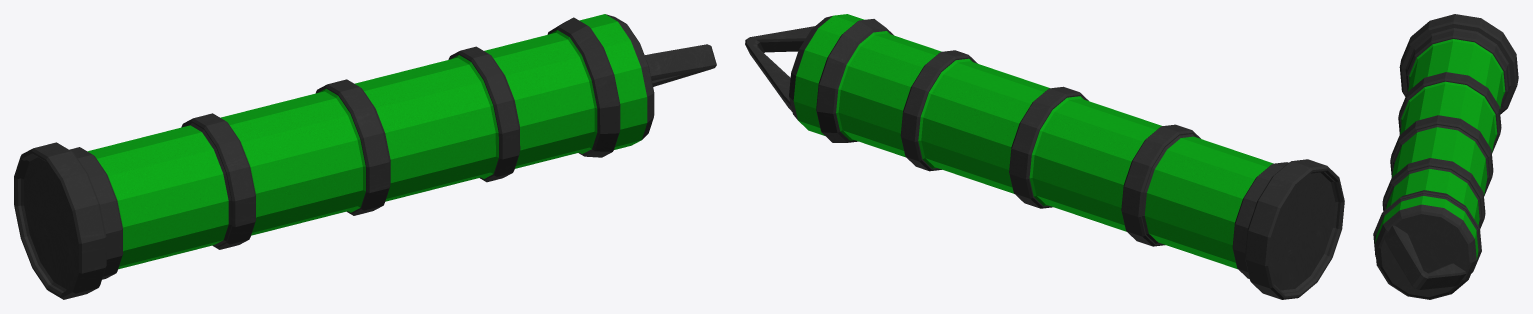
File: glowstick 2.fbx
3 views of the same model, side by side, from view 1: azimuth 30°, elevation 25°; view 2: azimuth 150°, elevation 25°; view 3: azimuth 270°, elevation 25° (orthographic). The views are drawn at different scales.
Parts seen in each view (by area): view 1: Glowstick; view 2: Glowstick; view 3: Glowstick.
Boxes of the visible parts, x1,y1,x2,y2 form: Glowstick: (14, 14, 716, 299); Glowstick: (745, 14, 1344, 299); Glowstick: (1373, 14, 1518, 299).
Bounding box in the file's own units: 971 × 231 × 248.
